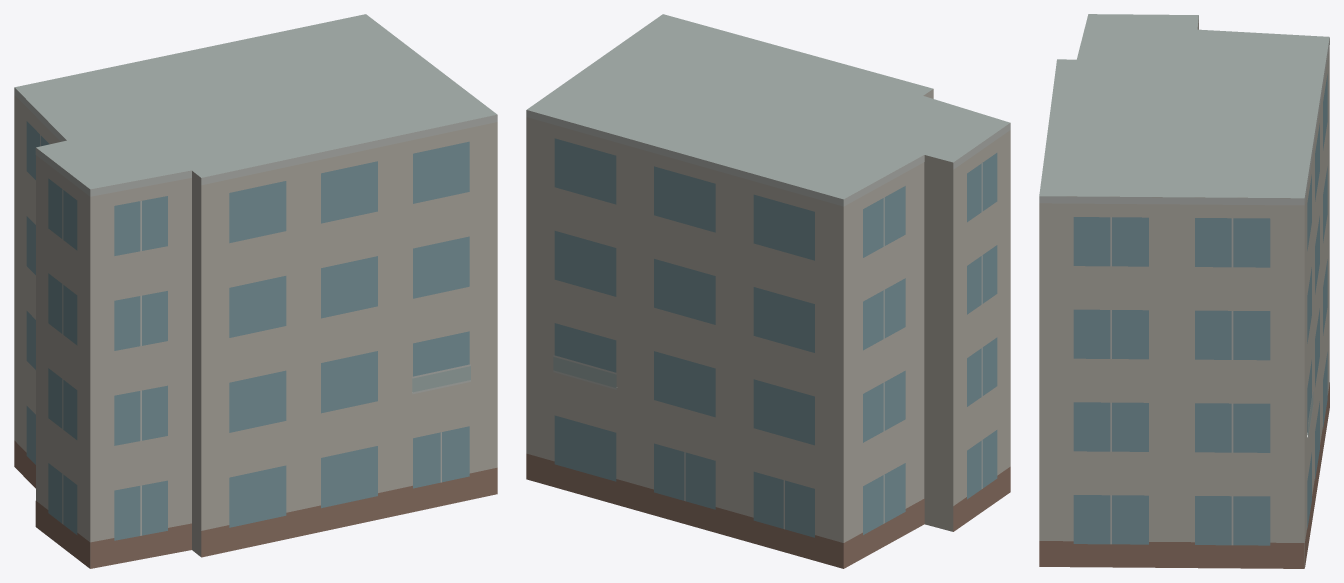
File: survey-upis-32984367.glb
3 views of the same model, side by side, from view 1: azimuth 30°, elevation 25°; view 2: azimuth 150°, elevation 25°; view 3: azimuth 270°, elevation 25° (orthographic). The views are drawn at different scales.
Visible parts, largest first — view 1: survey-upis-32984367.tmp; view 2: survey-upis-32984367.tmp; view 3: survey-upis-32984367.tmp.
Boxes of the visible parts, x1,y1,x2,y2 form: survey-upis-32984367.tmp: (14,14,497,568); survey-upis-32984367.tmp: (526,14,1010,568); survey-upis-32984367.tmp: (1039,14,1329,568).
Size of the model in its own units: 13.33 by 12.5 by 8.89.
